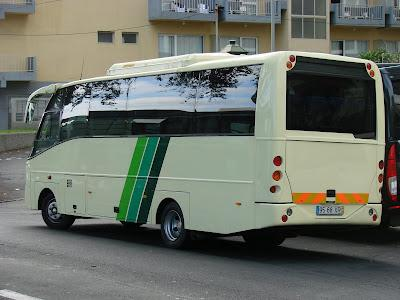vehicle: (23, 51, 385, 248)
